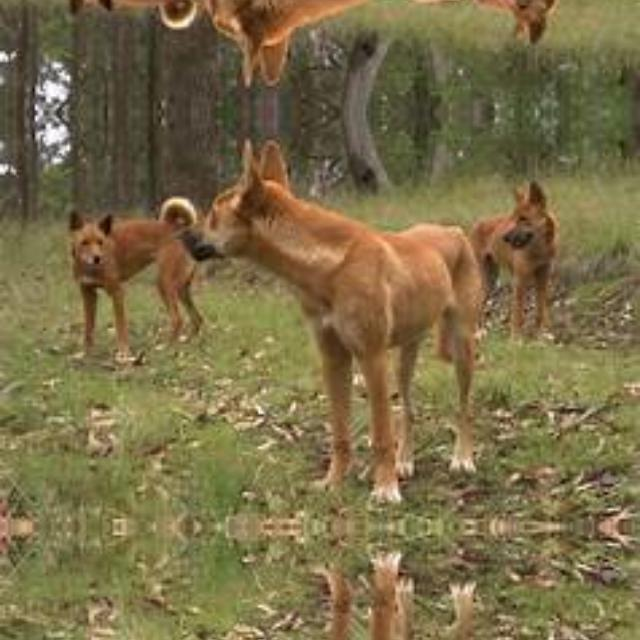dog: (182, 162, 484, 464), (50, 196, 200, 350), (182, 0, 484, 62), (182, 588, 484, 640), (50, 0, 200, 28)
